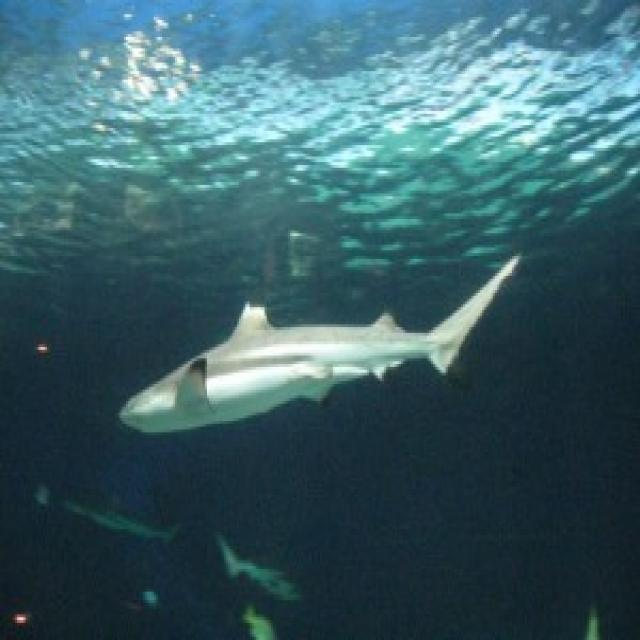Shark: (113, 249, 527, 443)
